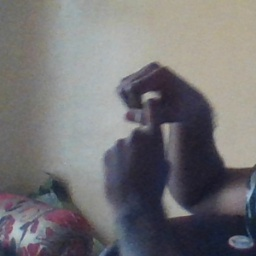Q: (100, 58, 194, 186)
